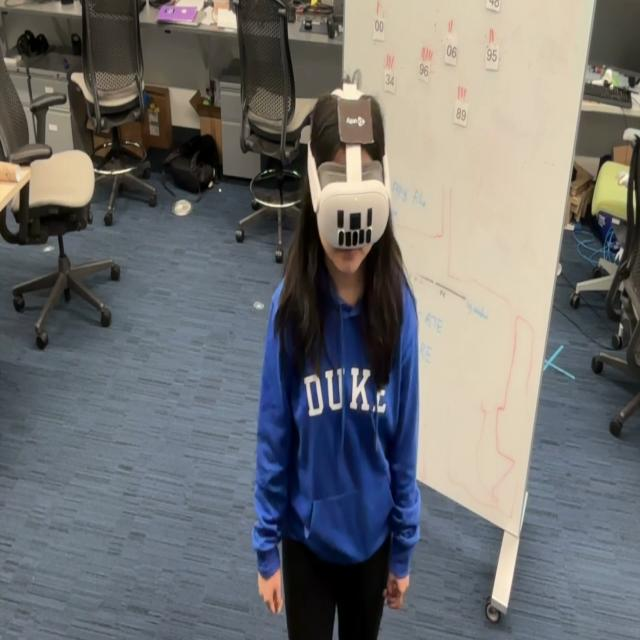Headset: (306, 85, 391, 252)
UnityLogo: (336, 94, 375, 146)
